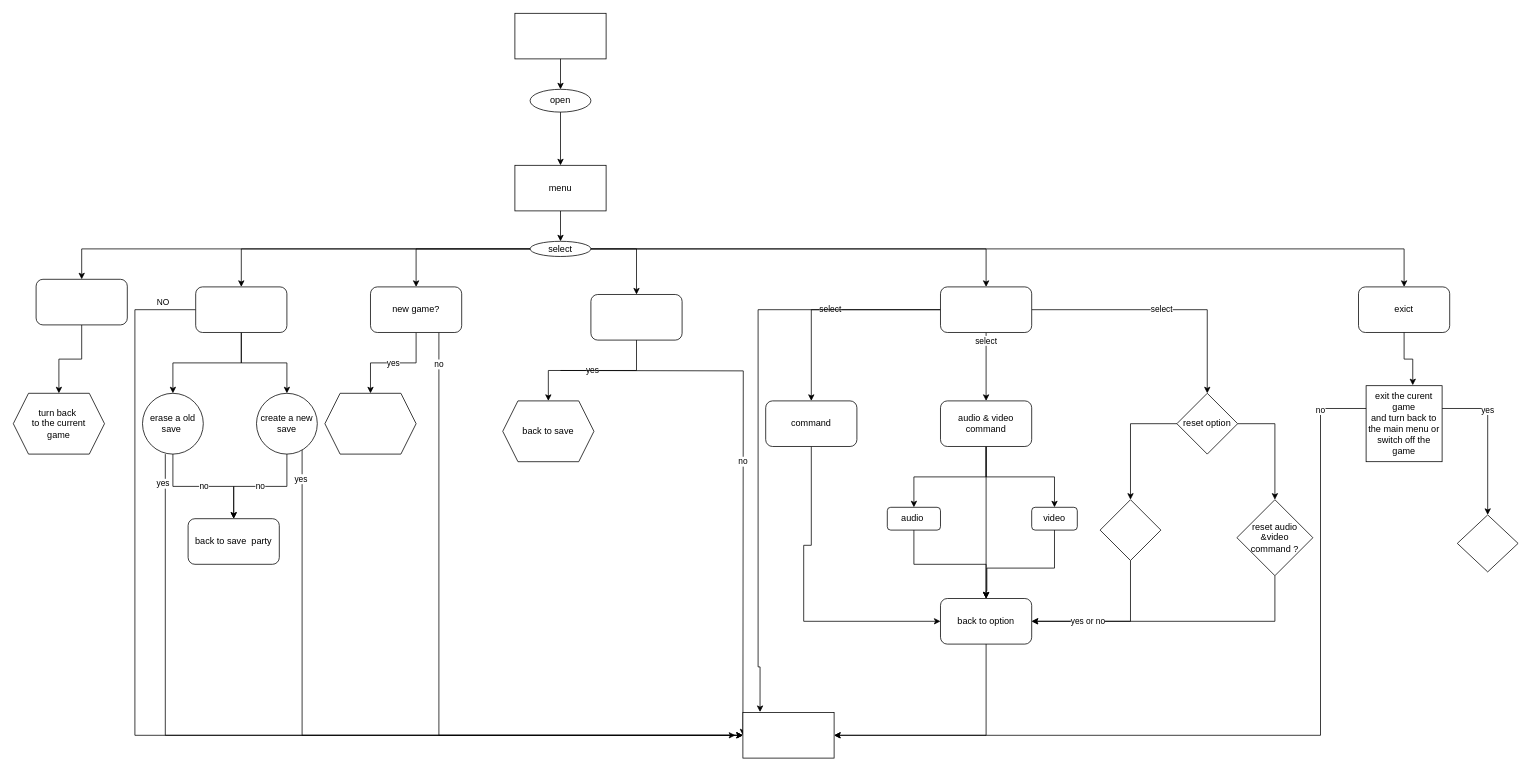
This 1531x771 diagram has some shape labels left out. The shapes that lost their labels are listed below. From the top down, each one's box as (x1, y1, x2, y2) in pixels, then its label:
(514, 13, 606, 59): player
(35, 279, 127, 325): restart the party
(195, 286, 287, 332): save party?
(590, 294, 682, 340): change party ?
(940, 286, 1032, 332): option
(324, 393, 416, 454): star game from begginnig
(1099, 499, 1161, 560): reset command ?
(1457, 514, 1518, 572): exit the party or the game
(742, 712, 834, 758): turn back to the "menu"
